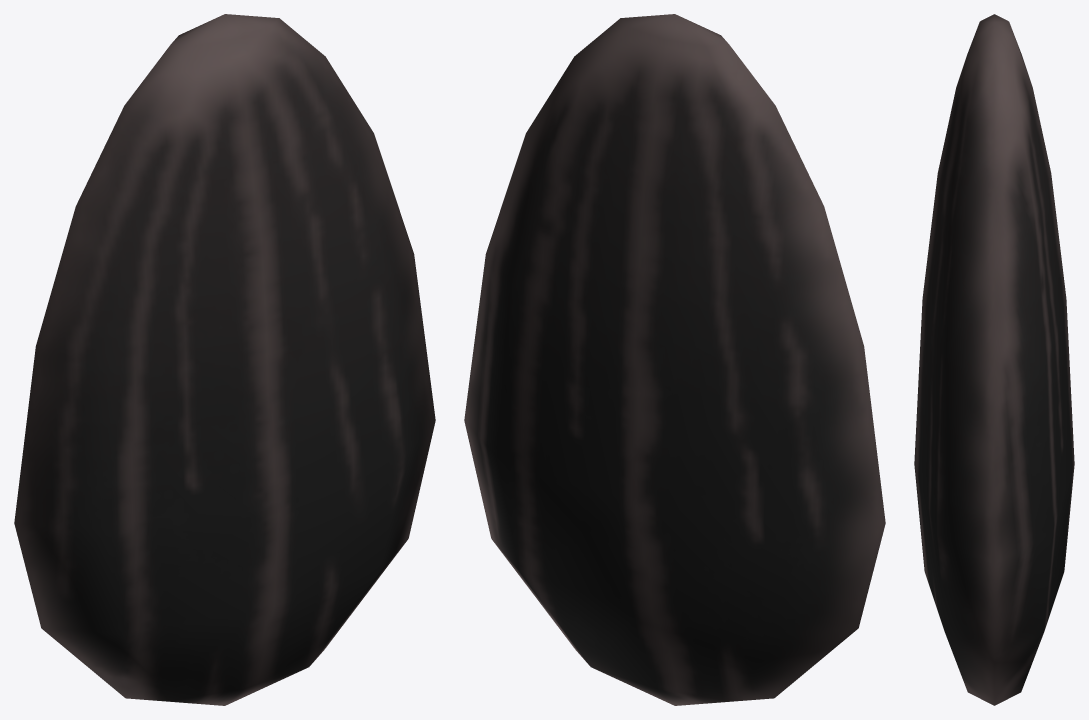
The model's file is Sunflower_seed.glb.
The picture shows the model from 3 angles, left to right: view 1: azimuth 30°, elevation 25°; view 2: azimuth 150°, elevation 25°; view 3: azimuth 270°, elevation 25°; orthographic projection. The views are drawn at different scales.
Parts seen in each view (by area): view 1: Flora_Sunflower_Seed; view 2: Flora_Sunflower_Seed; view 3: Flora_Sunflower_Seed.
Boxes of the visible parts, x1,y1,x2,y2 form: Flora_Sunflower_Seed: [14, 14, 435, 705]; Flora_Sunflower_Seed: [464, 14, 885, 705]; Flora_Sunflower_Seed: [914, 14, 1074, 705].
Bounding box in the file's own units: 0.0097 × 0.0152 × 0.00332.
Materials: 1 (1 with a texture image).
